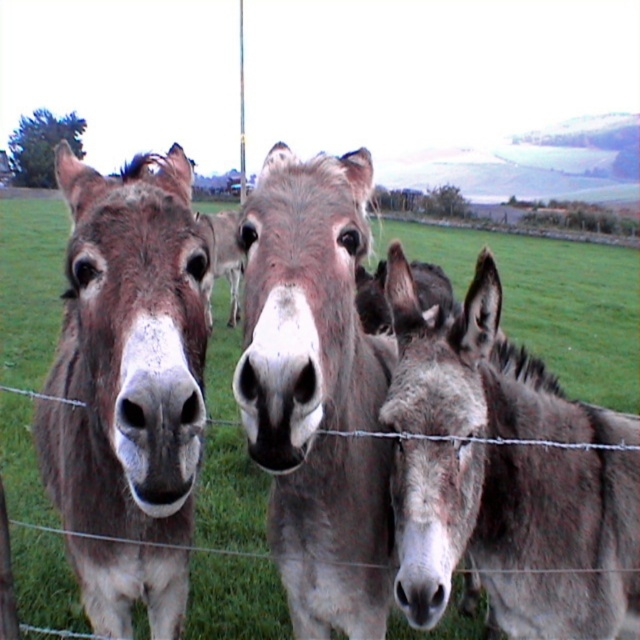Mule: (31, 138, 640, 640)
